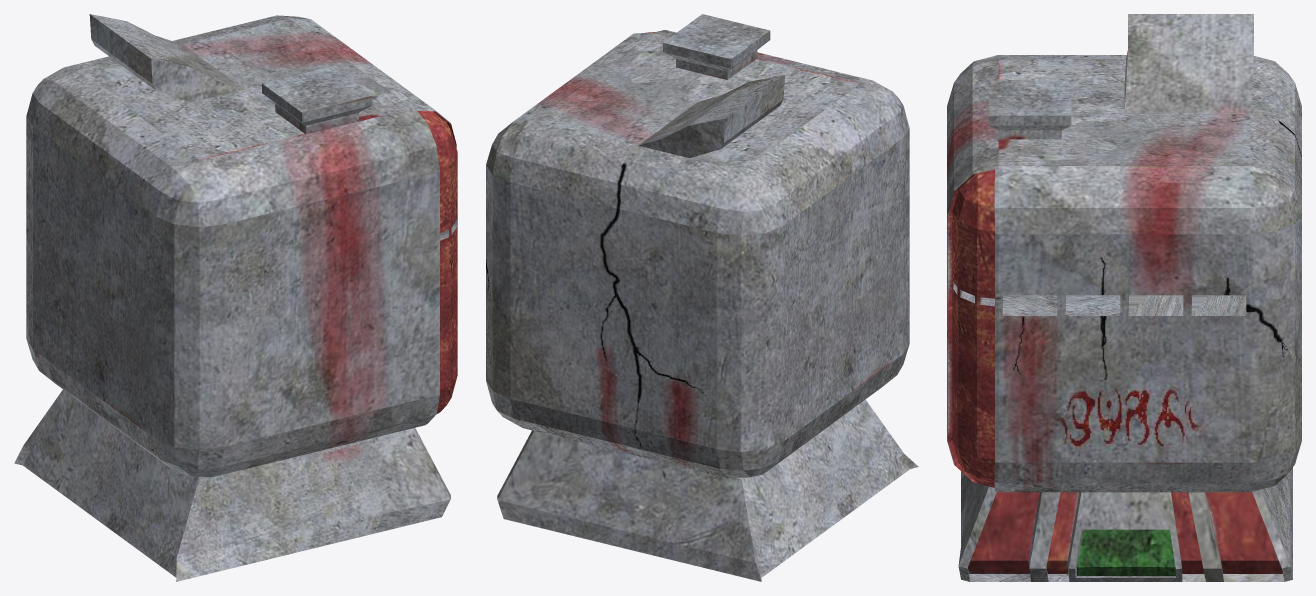
Rendered from Bild1.fbx.
3 views of the same model, side by side, from view 1: azimuth 30°, elevation 25°; view 2: azimuth 150°, elevation 25°; view 3: azimuth 270°, elevation 25° (orthographic). The views are drawn at different scales.
Parts seen in each view (by area): view 1: bild; view 2: bild; view 3: bild.
Part boxes in pixels (x1,y1,x2,y2): bild: [14, 14, 457, 581]; bild: [486, 14, 918, 581]; bild: [947, 14, 1301, 581].
Bounding box in the file's own units: 20000 × 28668 × 20000.
1 material, 1 textured.
